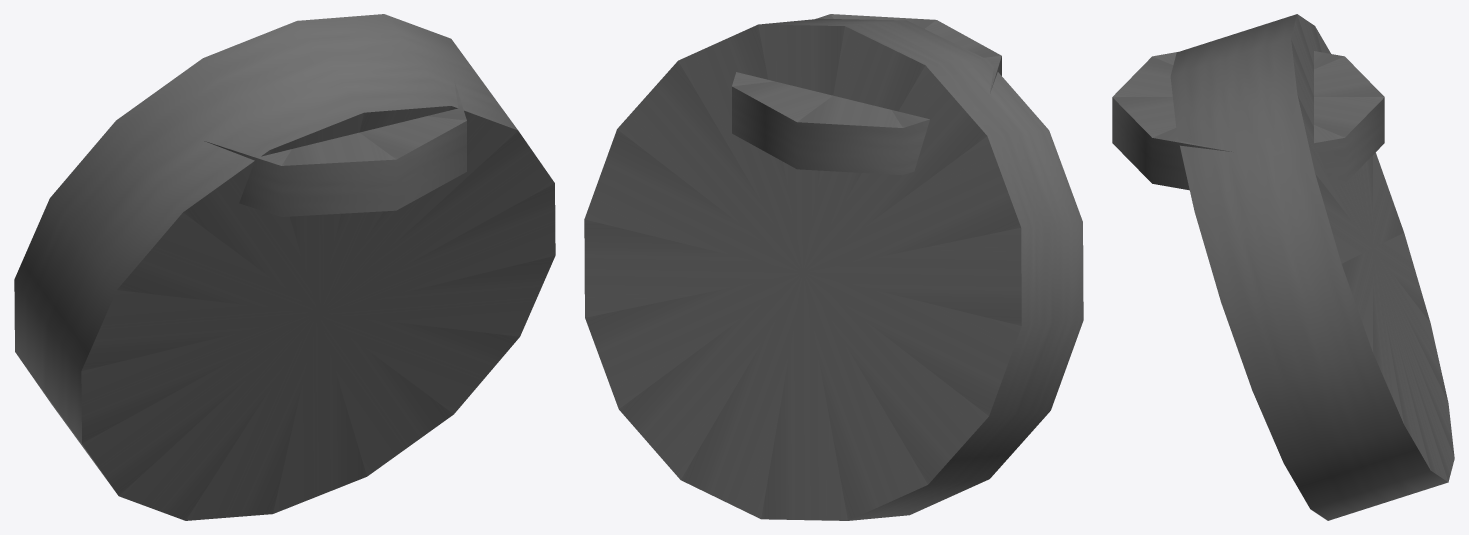
The model's file is mastarmcurve_5x1_c0_up.obj.
The picture shows the model from 3 angles, left to right: view 1: azimuth 30°, elevation 25°; view 2: azimuth 150°, elevation 25°; view 3: azimuth 270°, elevation 25°; orthographic projection. The views are drawn at different scales.
Visible parts, largest first — view 1: mastarm_5x1_c0_up; view 2: mastarm_5x1_c0_up; view 3: mastarm_5x1_c0_up.
Part boxes in pixels (bbox=[...]): mastarm_5x1_c0_up: bbox=[14, 14, 555, 520]; mastarm_5x1_c0_up: bbox=[584, 14, 1083, 520]; mastarm_5x1_c0_up: bbox=[1112, 14, 1454, 520].
Bounding box in the file's own units: 0.7226 × 0.7439 × 0.5026.
